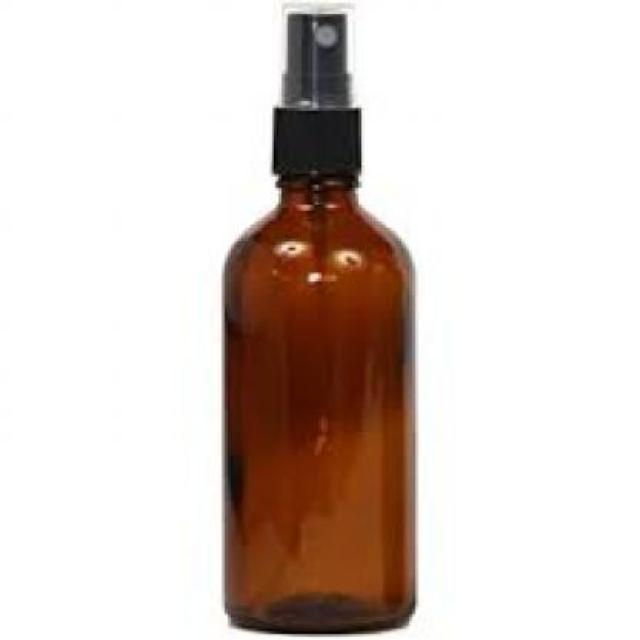kaca: (218, 174, 412, 631)
